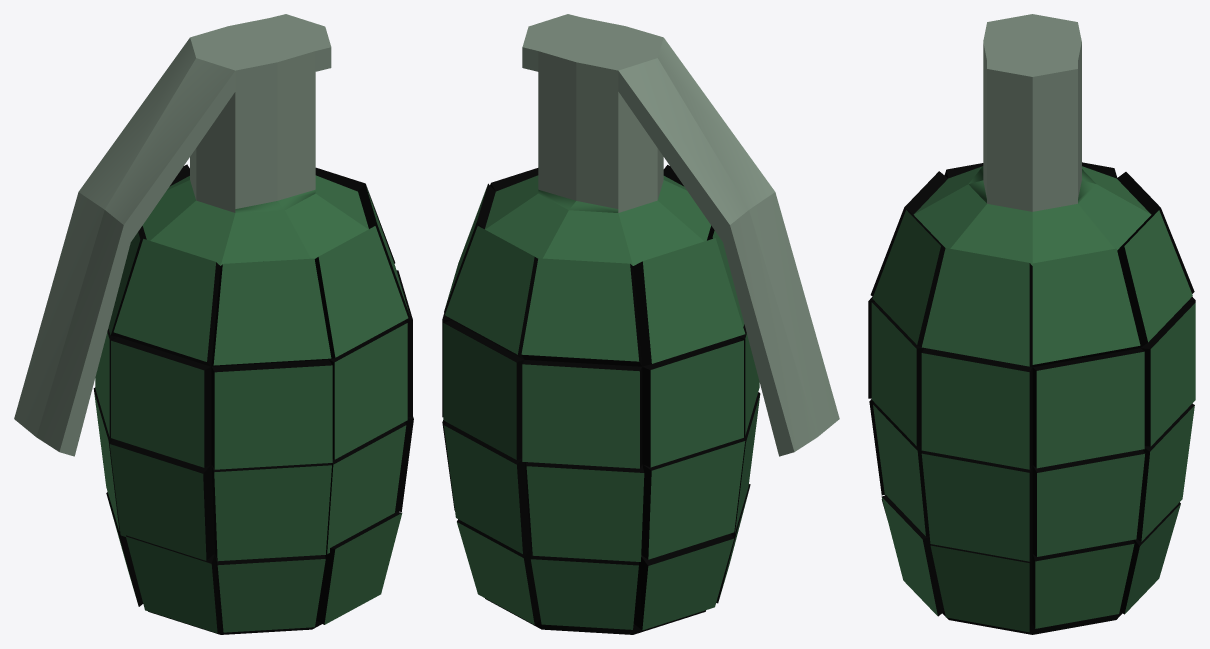
File: Grenade.fbx
The picture shows the model from 3 angles, left to right: view 1: azimuth 30°, elevation 25°; view 2: azimuth 150°, elevation 25°; view 3: azimuth 270°, elevation 25°; orthographic projection.
Visible parts, largest first — view 1: Grenade; view 2: Grenade; view 3: Grenade.
Part boxes in pixels (left/top/right/bottom): Grenade: left=14, top=14, right=413, bottom=634; Grenade: left=442, top=14, right=839, bottom=634; Grenade: left=868, top=14, right=1195, bottom=634.
Bounding box in the file's own units: 144 × 206 × 113.
